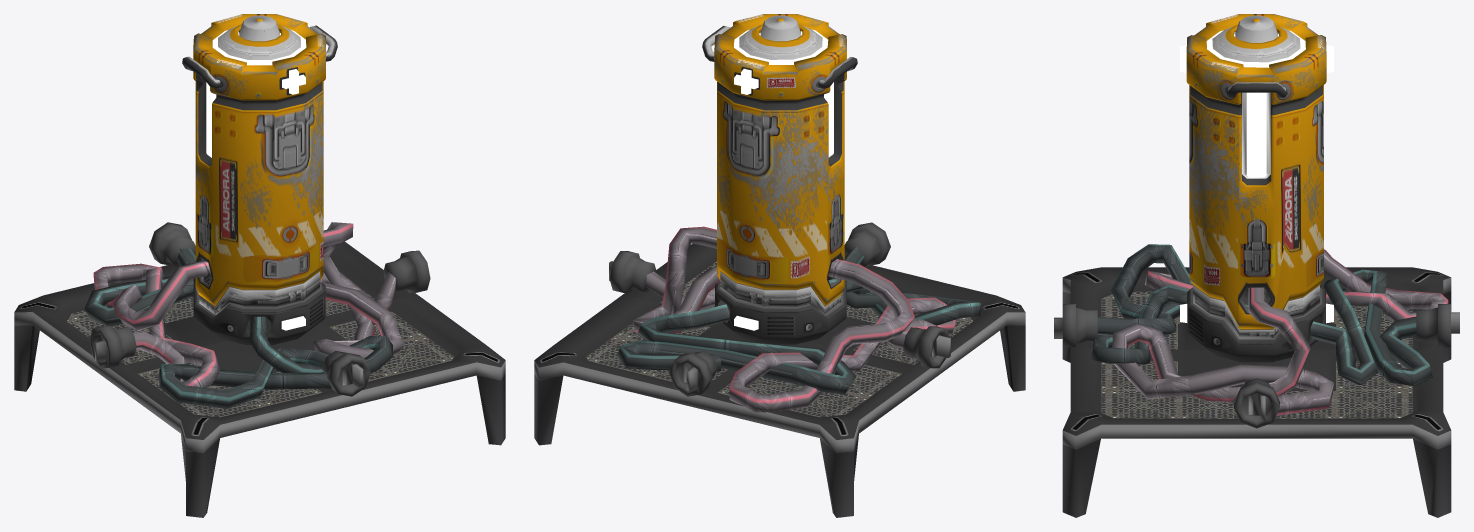
Rendered from accumulator-1.glb.
The picture shows the model from 3 angles, left to right: view 1: azimuth 30°, elevation 25°; view 2: azimuth 150°, elevation 25°; view 3: azimuth 270°, elevation 25°; orthographic projection. The views are drawn at different scales.
Visible parts, largest first — view 1: Cube; view 2: Cube; view 3: Cube.
Part boxes in pixels (<box>): Cube: <box>14,14,505,517</box>; Cube: <box>534,14,1025,517</box>; Cube: <box>1054,14,1459,517</box>.
Size of the model in its own units: 20.85 by 23.56 by 20.85.
1 material, 1 textured.
